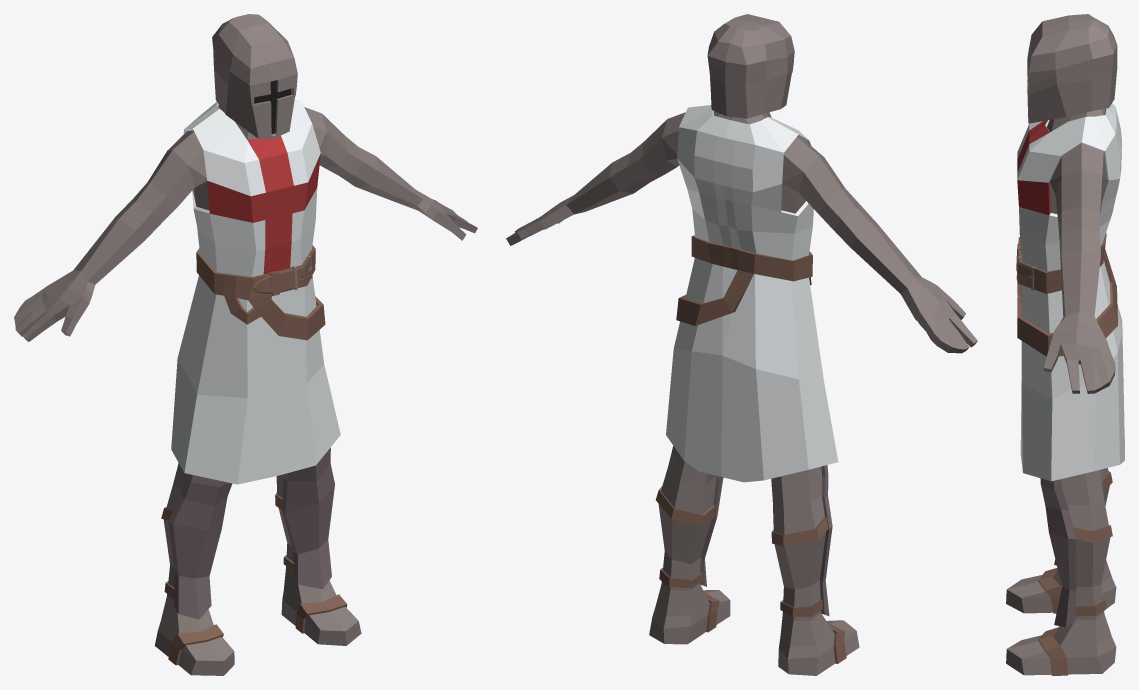
The model's file is Basic_Warrior.fbx.
3 renders of one model, left to right at view 1: azimuth 30°, elevation 25°; view 2: azimuth 150°, elevation 25°; view 3: azimuth 270°, elevation 25°, orthographic.
Parts seen in each view (by area): view 1: Basic Human; view 2: Basic Human; view 3: Basic Human.
Part boxes in pixels (box(x1,y1,x2,y2)): Basic Human: box(14, 14, 477, 675); Basic Human: box(506, 14, 977, 675); Basic Human: box(1006, 14, 1124, 675).
Size of the model in its own units: 384 by 499 by 87.6.
